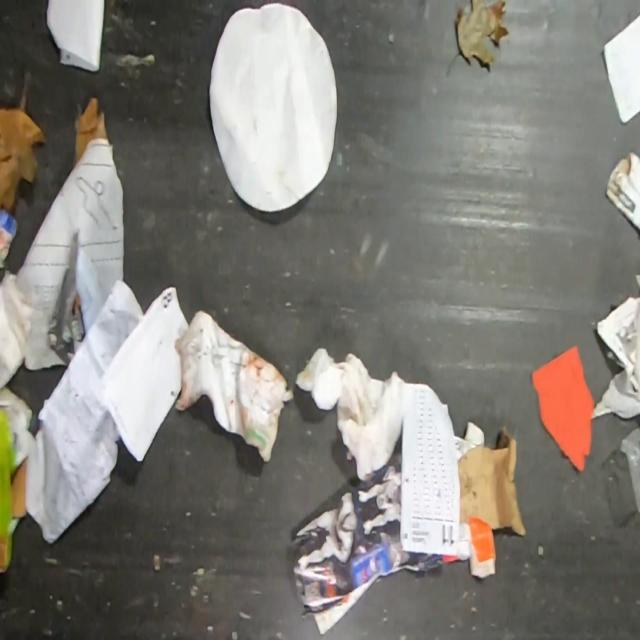cardboard: (458, 427, 525, 533), (0, 404, 26, 574), (0, 267, 35, 388)
rigid_plastic: (618, 428, 640, 518)
